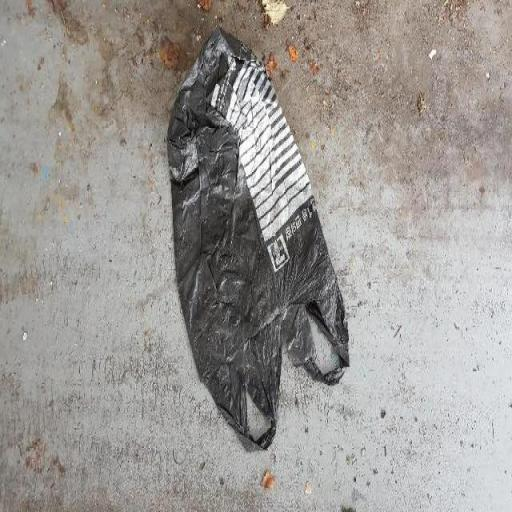plastic-bag: (166, 24, 352, 456)
